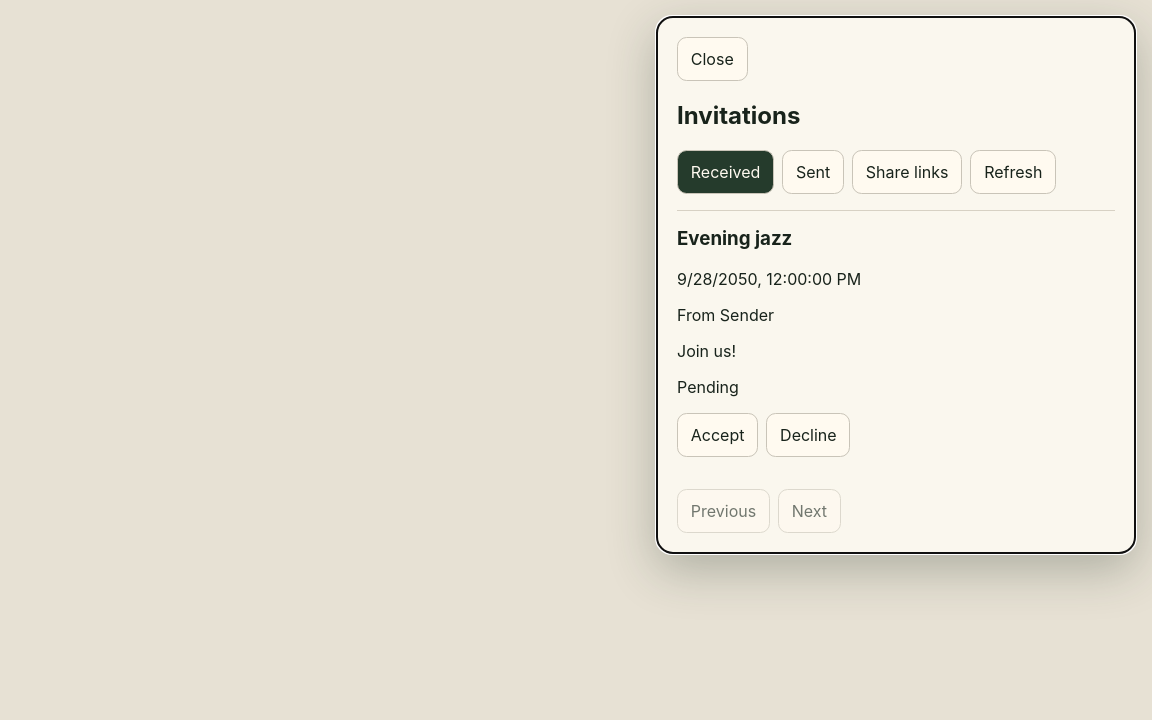
Scenario: invitation controls › accepts a received invite and displays sent responses without recipient actions
The width and height of the screenshot is (1152, 720).
Expected: the text "From Sender" is shown, [677,304,774,324]
Step 1. Click the button "Accept" → click(718, 434), box [677,412,758,456]
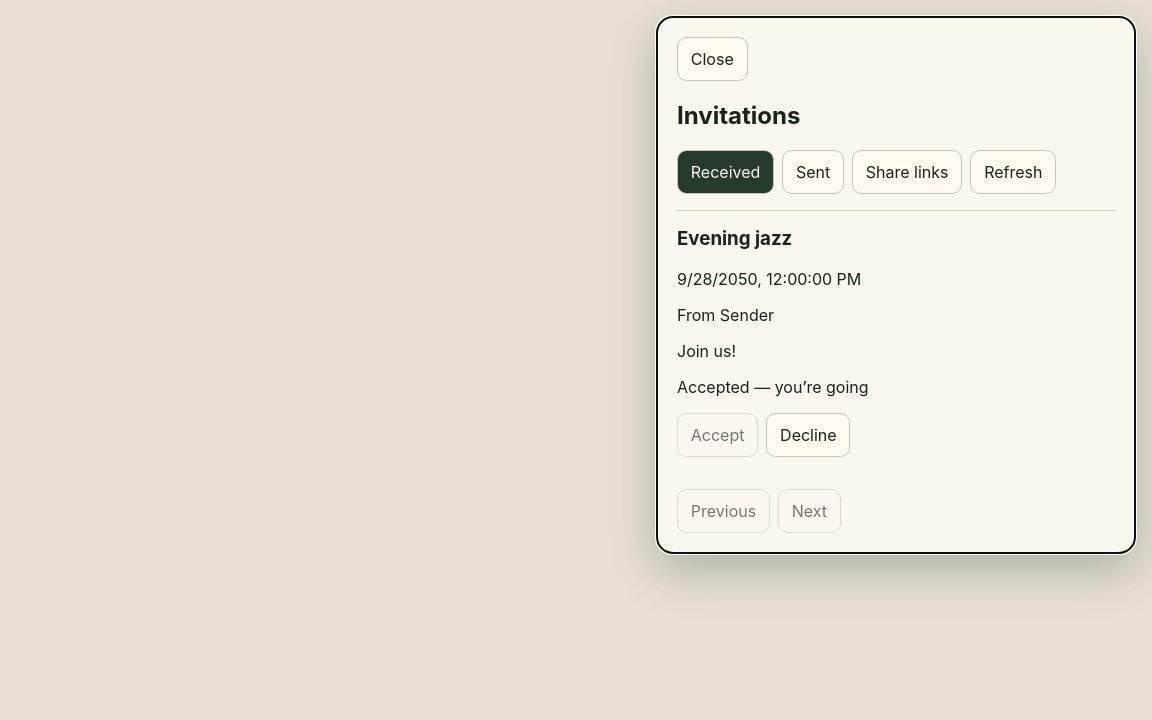
Now the text "Accepted — you’re going" is shown, box [677,376,869,396]
Now the button "Accept" is disabled, box [677,412,758,456]
Step 2. Click the button "Sent" → click(813, 172), box [782,150,844,194]
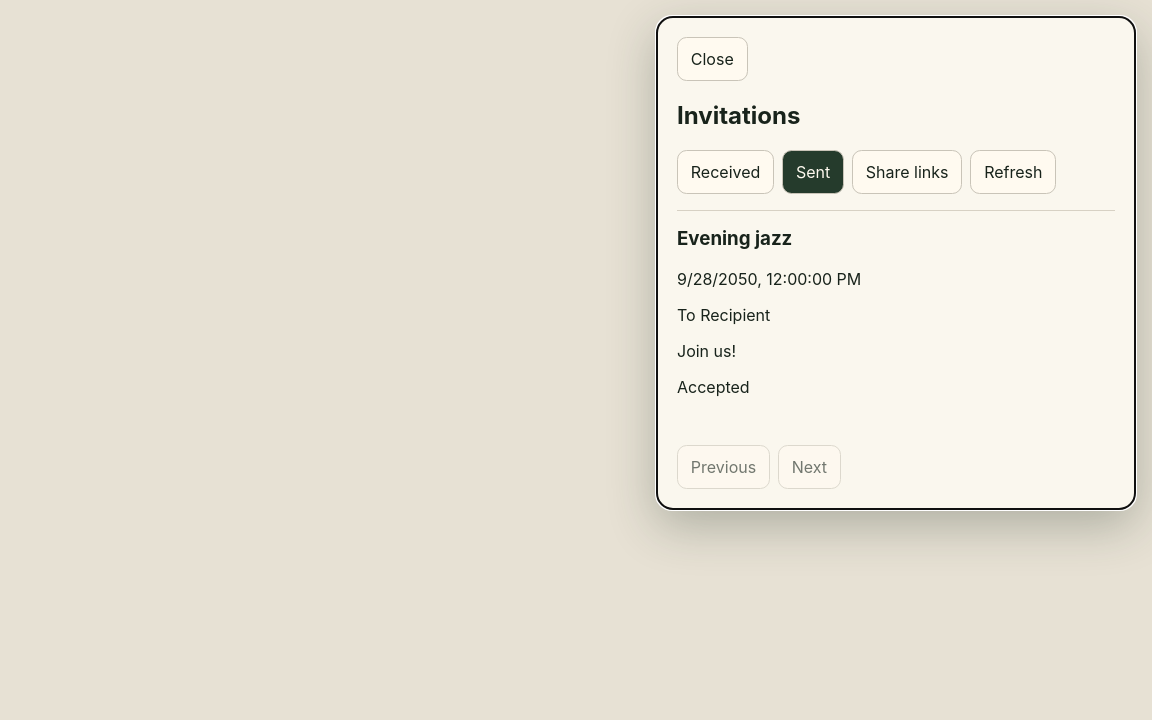
Now the text "Accepted" is shown, box [677,376,750,396]
Now the text "To Recipient" is shown, box [677,304,770,324]
